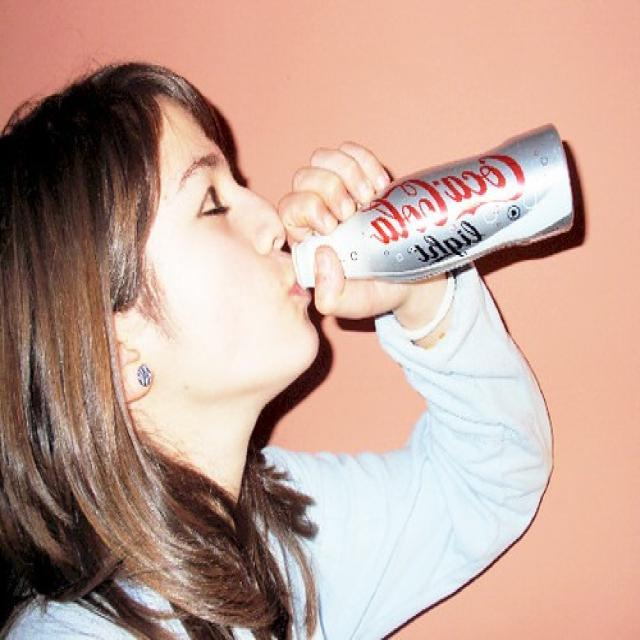coca cola: (365, 142, 526, 248)
